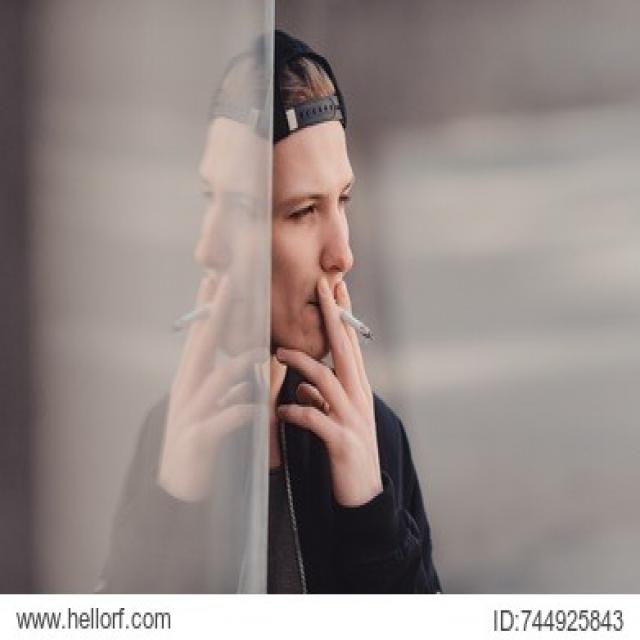smoke: (329, 300, 373, 344)
